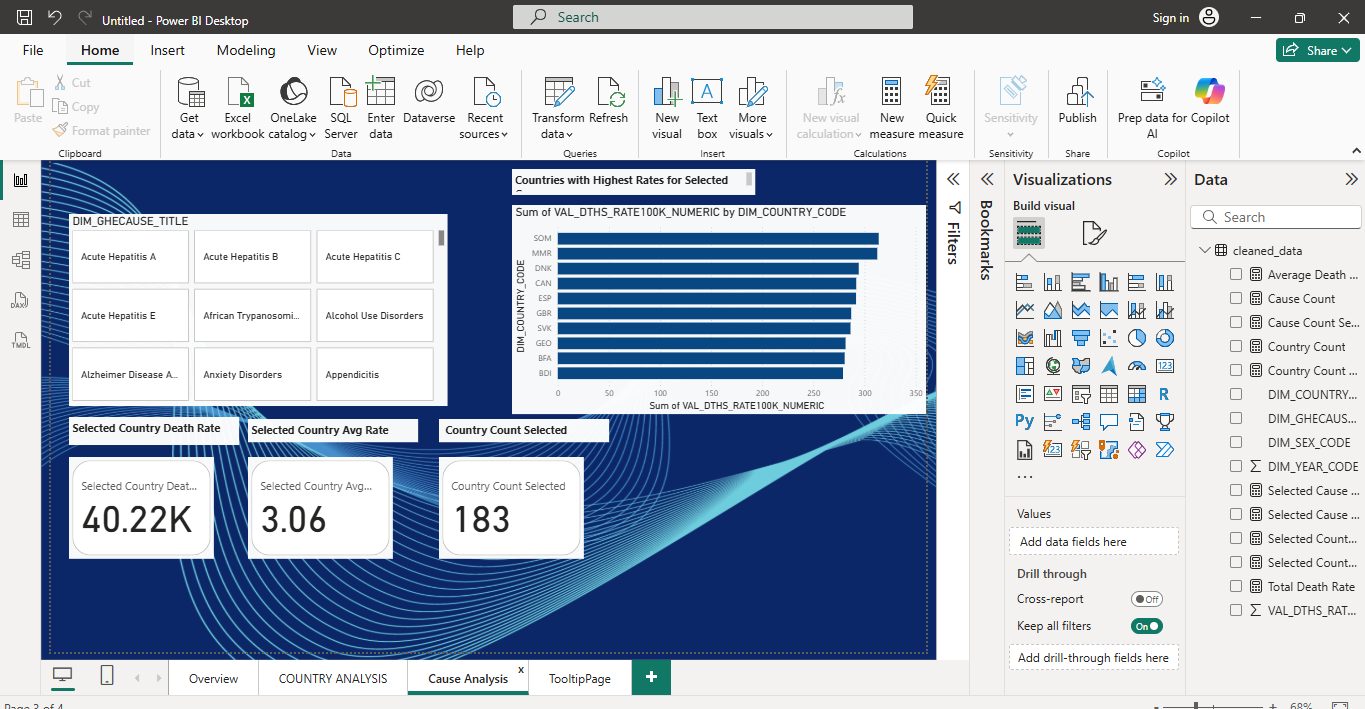

The dashboard page shown, as its layout file describes it:
{"tool":"powerbi","page":{"name":"Cause Analysis","canvas":[1280,720],"ordinal":2},"visuals":[{"type":"advancedSlicerVisual","fields":{"Values":["cleaned_data.DIM_GHECAUSE_TITLE"]},"box":[26.9,79,554.3,280.5],"z":0},{"type":"textbox","box":[26.3,376.1,248.8,41],"z":1000},{"type":"textbox","box":[288.3,379,248.8,33.7],"z":2000},{"type":"textbox","box":[567.8,379,248.8,33.7],"z":3000},{"type":"cardVisual","fields":{"Data":["cleaned_data.Selected Country Death Rate"]},"box":[26.3,434.6,212.2,149.3],"z":4000},{"type":"cardVisual","fields":{"Data":["cleaned_data.Selected Country Avg Rate"]},"box":[288.3,434.6,212.2,149.3],"z":5000},{"type":"cardVisual","fields":{"Data":["cleaned_data.Country Count Selected"]},"box":[567.8,434.6,212.2,149.3],"z":6000},{"type":"textbox","box":[674.6,13.2,355.6,38],"z":7000},{"type":"clusteredBarChart","fields":{"Y":["Sum(cleaned_data.VAL_DTHS_RATE100K_NUMERIC)"],"Category":["cleaned_data.DIM_COUNTRY_CODE"]},"box":[674.6,65.9,605.9,305.9],"z":8000}]}

Visuals, with their boxes on the page's 1280x720 design canvas (x1, y1, x2, y2). These are canvas units, not pixel positions in the 1365x709 screenshot, which may show the page scaled, cropped or inside an application window:
advancedSlicerVisual - cleaned_data.DIM_GHECAUSE_TITLE: 27,79,581,360
textbox: 26,376,275,417
textbox: 288,379,537,413
textbox: 568,379,817,413
cardVisual - cleaned_data.Selected Country Death Rate: 26,435,238,584
cardVisual - cleaned_data.Selected Country Avg Rate: 288,435,500,584
cardVisual - cleaned_data.Country Count Selected: 568,435,780,584
textbox: 675,13,1030,51
clusteredBarChart - Sum(cleaned_data.VAL_DTHS_RATE100K_NUMERIC) x cleaned_data.DIM_COUNTRY_CODE: 675,66,1280,372
